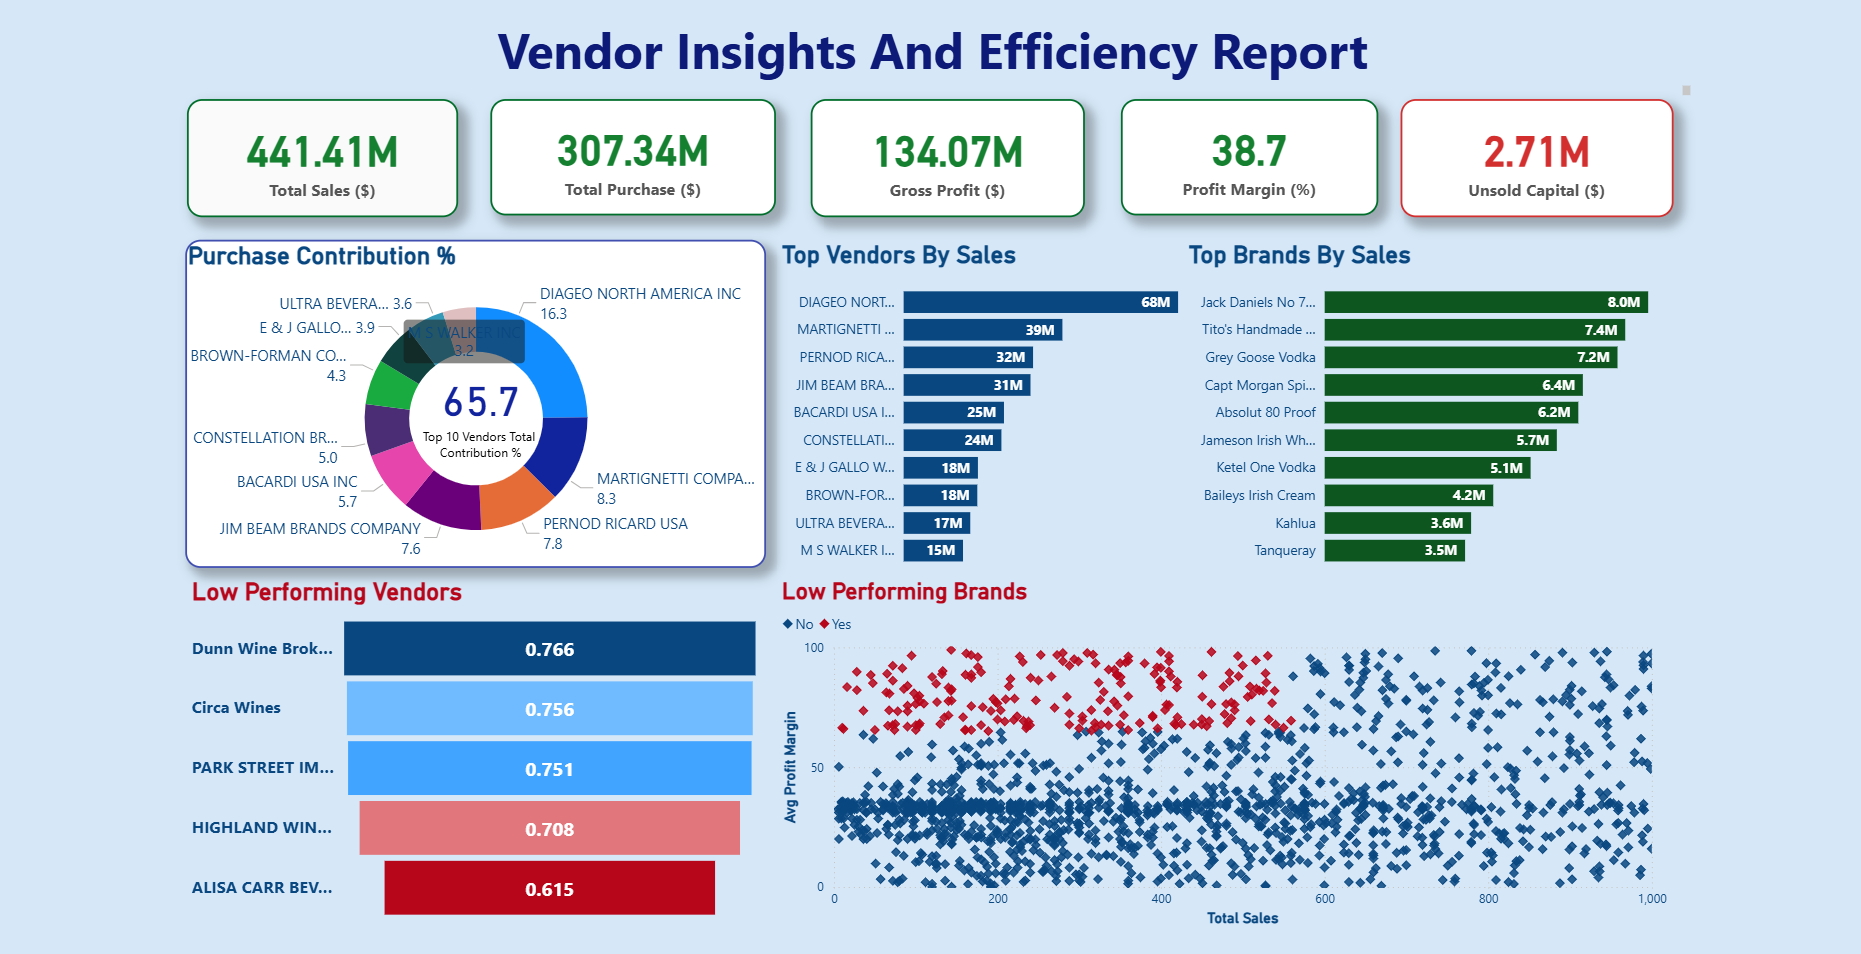

This screenshot's page, from the dashboard's own definition file:
{"tool":"powerbi","page":{"name":"Page 1","canvas":[1500,900],"ordinal":0},"visuals":[{"type":"card","fields":{"Values":["Sum(vendor_sales_summary.TotalPurchaseDollars)"]},"box":[315.8,82.4,280.9,114.6],"z":0},{"type":"card","fields":{"Values":["Sum(vendor_sales_summary.TotalSalesDollars)"]},"box":[16.8,81,266.9,116],"z":1000},{"type":"card","fields":{"Values":["Sum(vendor_sales_summary.GrossProfit)"]},"box":[630.2,81,269.7,116],"z":2000},{"type":"card","fields":{"Values":["Sum(vendor_sales_summary.ProfitMargin)"]},"box":[934.8,82.4,252.9,114.6],"z":3000},{"type":"card","fields":{"Values":["Sum(vendor_sales_summary.UnsoldCapital)"]},"box":[1210.1,81,268.3,116],"z":4000},{"type":"textbox","title":"Vendor Insights And Efficiency Report","box":[0,0,1500,83],"z":5000},{"type":"donutChart","title":"Purchase Contribution % ","fields":{"Category":["PurchaseContribution.VendorName"],"Y":["Sum(PurchaseContribution.PurchaseContribution%)"]},"box":[14.5,219.4,571,322.6],"z":6000},{"type":"card","fields":{"Values":["Sum(PurchaseContribution.PurchaseContribution%)"]},"box":[211.8,266.7,188.2,233.3],"z":7000},{"type":"barChart","title":"Top Vendors By Sales","fields":{"Category":["vendor_sales_summary.VendorName"],"Y":["Sum(vendor_sales_summary.TotalSalesDollars)"]},"box":[597.3,219.2,447.9,332.9],"z":8000},{"type":"barChart","title":"Top Brands By Sales","fields":{"Category":["vendor_sales_summary.Description"],"Y":["Sum(vendor_sales_summary.TotalSalesDollars)"]},"box":[995.9,219.2,504.1,332.9],"z":9000},{"type":"funnel","title":"Low Performing Vendors","fields":{"Category":["LowTurnoverVendor.VendorName"],"Y":["Avg(LowTurnoverVendor.AvgStockTurnOver)"]},"box":[16.1,551.6,569.4,348.4],"z":10000},{"type":"scatterChart","title":"Low Performing Brands","fields":{"X":["Sum(BrandPerformance.TotalSales)"],"Y":["Sum(BrandPerformance.AvgProfitMargin)"],"Series":["BrandPerformance.TargetBrand"],"Category":["BrandPerformance.Description"]},"box":[596.8,551.6,880.6,348.4],"z":11000}]}

Visuals, with their boxes on the page's 1500x900 design canvas (x1, y1, x2, y2). These are canvas units, not pixel positions in the 1861x954 screenshot, which may show the page scaled, cropped or inside an application window:
card - Sum(vendor_sales_summary.TotalPurchaseDollars): 316:82:597:197
card - Sum(vendor_sales_summary.TotalSalesDollars): 17:81:284:197
card - Sum(vendor_sales_summary.GrossProfit): 630:81:900:197
card - Sum(vendor_sales_summary.ProfitMargin): 935:82:1188:197
card - Sum(vendor_sales_summary.UnsoldCapital): 1210:81:1478:197
"Vendor Insights And Efficiency Report" textbox: 0:0:1500:83
"Purchase Contribution % " donutChart: 14:219:586:542
card - Sum(PurchaseContribution.PurchaseContribution%): 212:267:400:500
"Top Vendors By Sales" barChart: 597:219:1045:552
"Top Brands By Sales" barChart: 996:219:1500:552
"Low Performing Vendors" funnel: 16:552:586:900
"Low Performing Brands" scatterChart: 597:552:1477:900
